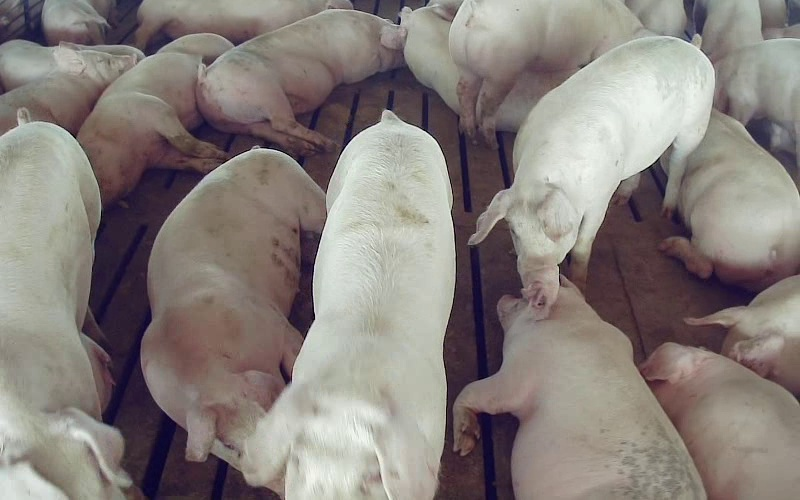pig: (241, 110, 454, 499), (469, 34, 713, 317), (142, 149, 325, 467), (455, 277, 704, 499), (0, 108, 130, 499), (197, 9, 404, 155), (449, 0, 648, 147), (77, 33, 232, 205), (660, 109, 799, 290), (641, 343, 799, 499), (685, 275, 799, 394), (0, 43, 135, 134), (135, 0, 352, 49), (400, 4, 459, 113)
